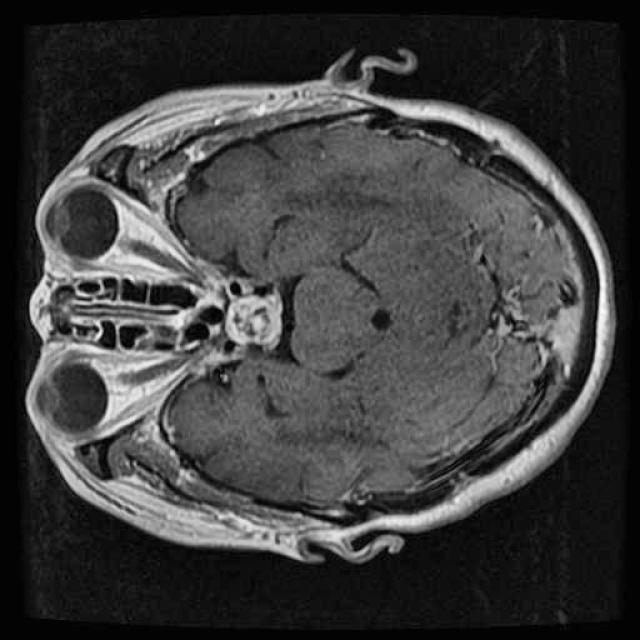Tumor: (214, 286, 295, 360)
